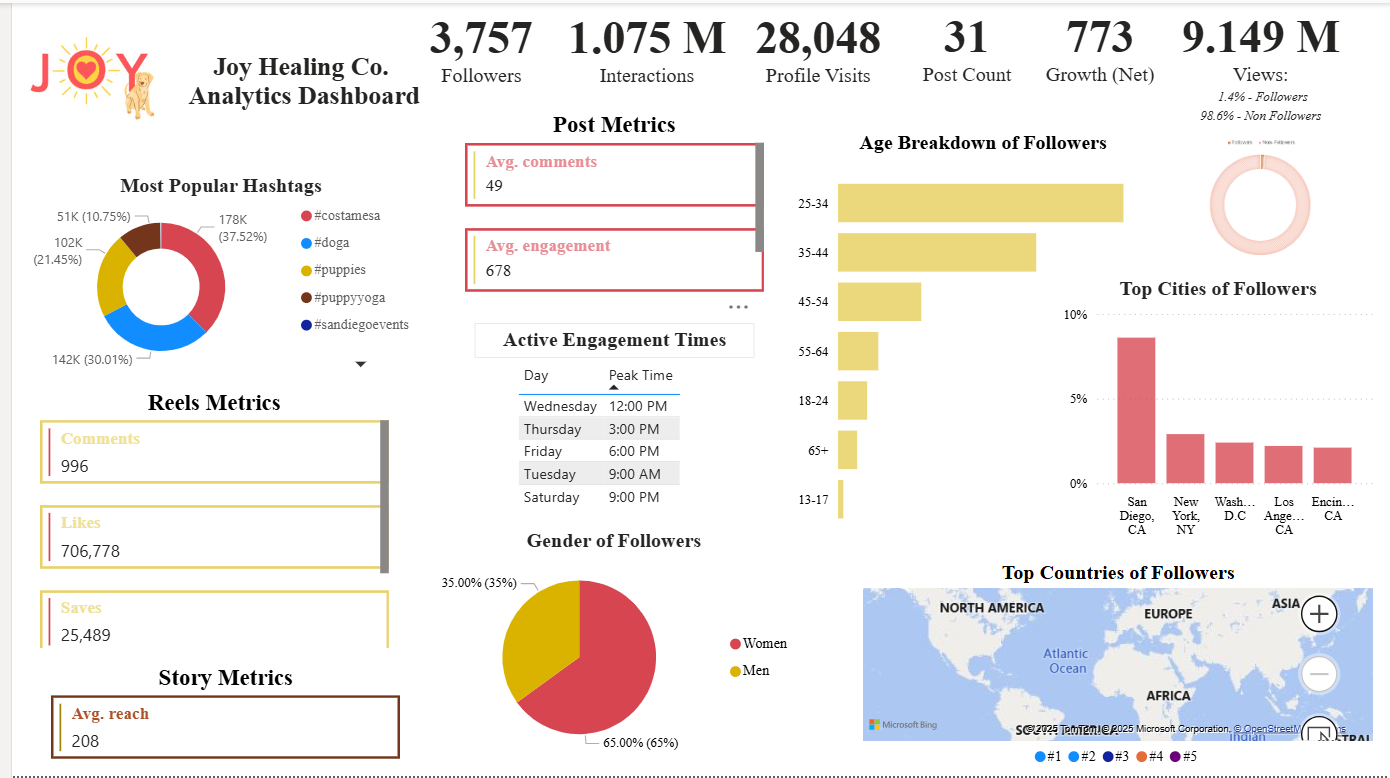

Layout of this report page (visuals, bound fields, positions):
{"tool":"powerbi","page":{"name":"Overview","canvas":[1280,720],"ordinal":0},"visuals":[{"type":"textbox","box":[152.5,41,245,98.8],"z":0},{"type":"textbox","box":[380.2,2.3,112.8,148.8],"z":1000},{"type":"textbox","box":[505.8,2.3,169.8,98.8],"z":2000},{"type":"textbox","box":[675.6,2.3,148.8,116.3],"z":3000},{"type":"textbox","box":[836,1.2,104.7,119.8],"z":4000},{"type":"textbox","box":[955.8,1.2,112.8,150],"z":5000},{"type":"textbox","box":[1068.2,1.1,186.1,138.8],"z":6000},{"type":"image","box":[1097.7,120.9,127.2,122],"z":7000},{"type":"donutChart","title":"Most Popular Hashtags","fields":{"Category":["Most Popular Hashtags.Column1"],"Y":["Sum(Most Popular Hashtags.Column2)"]},"box":[4.2,159.8,379.6,189.3],"z":8000},{"type":"multiRowCard","title":"Reels Metrics","fields":{"Values":["Reels Metrics.Column1","Sum(Reels Metrics.Column2)"]},"box":[21,359.6,334.3,246],"z":9000},{"type":"multiRowCard","title":"Story Metrics","fields":{"Values":["Story Metrics.Column1","Sum(Story Metrics.Column2)"]},"box":[31.4,615.1,334.9,104.7],"z":10000},{"type":"multiRowCard","title":"Post Metrics","fields":{"Values":["Post Metrics.Column1","Sum(Post Metrics.Column2)"]},"box":[416.4,100.9,288.1,189.3],"z":11000},{"type":"tableEx","fields":{"Values":["Table.Day","Table.Peak Time"]},"box":[464.7,330.1,190.3,159.8],"z":12000},{"type":"textbox","box":[430,297.5,260.7,32.6],"z":13000},{"type":"pieChart","title":"Gender of Followers","fields":{"Category":["Gender of Followers.Column1"],"Y":["Sum(Gender of Followers.Column2)"]},"box":[383.8,490,352.2,221.8],"z":14000},{"type":"barChart","title":"Age Breakdown of Followers","fields":{"Category":["Age Breakdown.Column1"],"Y":["Sum(Age Breakdown.Column2)"]},"box":[725.5,118.8,355.4,384.8],"z":15000},{"type":"clusteredColumnChart","title":"Top Cities of Followers","fields":{"Category":["Top Cities.Column1"],"Y":["Sum(Top Cities.Column2)"]},"box":[973.6,254.4,297.5,250.2],"z":16000},{"type":"filledMap","title":"Top Countries of Followers","fields":{"Series":["Top Countries of Followers.Column1"],"Category":["Top Countries of Followers.Column1","Top Countries of Followers.Column2","Top Countries of Followers.Column2"]},"box":[787.5,518.3,483.6,201.9],"z":17000},{"type":"image","box":[0,0,138.8,139.8],"z":18000}]}

Visuals, with their boxes in screenshot pixels (x1, y1, x2, y2), scaled from the page's 1280x720 canvas onto the 1390x778 screenshot:
textbox: select_region(166, 44, 432, 151)
textbox: select_region(413, 2, 535, 163)
textbox: select_region(549, 2, 734, 109)
textbox: select_region(734, 2, 895, 128)
textbox: select_region(908, 1, 1022, 131)
textbox: select_region(1038, 1, 1160, 163)
textbox: select_region(1160, 1, 1362, 151)
image: select_region(1192, 131, 1330, 262)
"Most Popular Hashtags" donutChart: select_region(5, 173, 417, 377)
"Reels Metrics" multiRowCard: select_region(23, 389, 386, 654)
"Story Metrics" multiRowCard: select_region(34, 665, 398, 777)
"Post Metrics" multiRowCard: select_region(452, 109, 765, 314)
tableEx - Table.Day x Table.Peak Time: select_region(505, 357, 711, 529)
textbox: select_region(467, 321, 750, 357)
"Gender of Followers" pieChart: select_region(417, 529, 799, 769)
"Age Breakdown of Followers" barChart: select_region(788, 128, 1174, 544)
"Top Cities of Followers" clusteredColumnChart: select_region(1057, 275, 1380, 545)
"Top Countries of Followers" filledMap: select_region(855, 560, 1380, 777)
image: select_region(0, 0, 151, 151)
